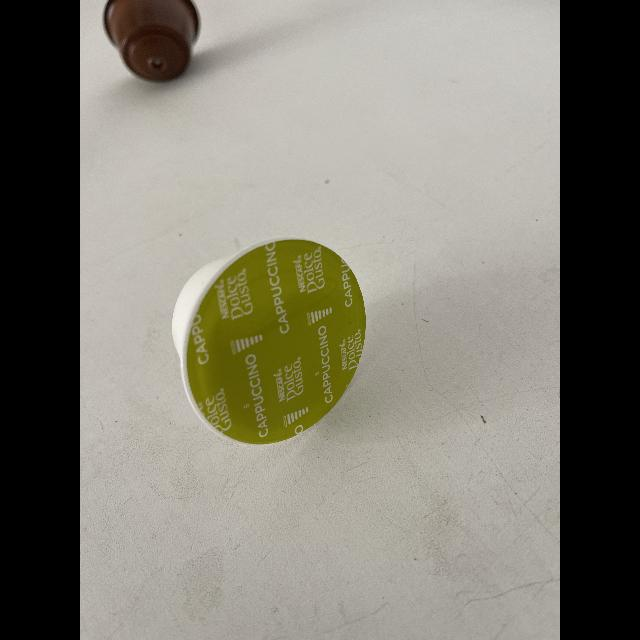intact_capsule: (160, 230, 376, 448), (80, 0, 218, 84)
